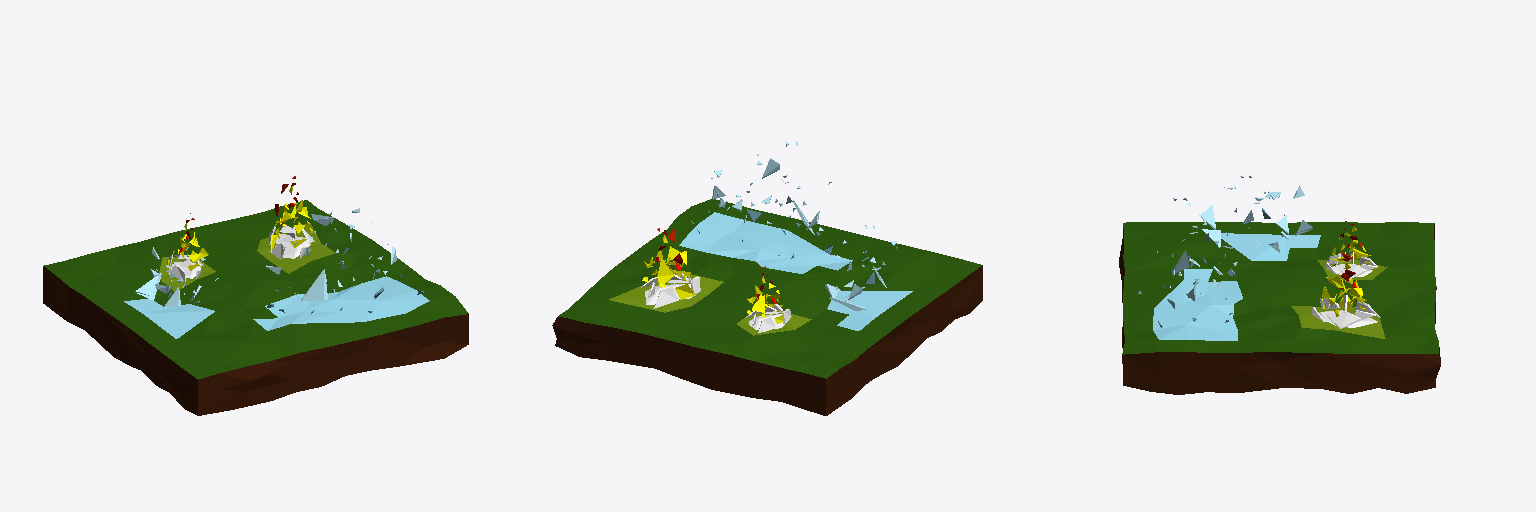
Rendered from particle_preview.obj.
3 views of the same model, side by side, from view 1: azimuth 30°, elevation 25°; view 2: azimuth 150°, elevation 25°; view 3: azimuth 270°, elevation 25° (orthographic).
Parts seen in each view (by area): view 1: Cube_Cube.006, particle_white.011_Plane.112, snow_group_Plane.069, particle_yellow.009_Plane.016, particle_red.079_Plane.137; view 2: Cube_Cube.006, particle_white.011_Plane.112, particle_yellow.009_Plane.016, snow_group_Plane.069, particle_red.079_Plane.137; view 3: Cube_Cube.006, particle_white.011_Plane.112, snow_group_Plane.069, particle_yellow.009_Plane.016, particle_red.079_Plane.137.
Part boxes in pixels (bbox=[...]): Cube_Cube.006: bbox=[43, 200, 468, 415]; particle_white.011_Plane.112: bbox=[269, 176, 314, 259]; snow_group_Plane.069: bbox=[266, 208, 423, 313]; particle_yellow.009_Plane.016: bbox=[166, 213, 208, 281]; particle_red.079_Plane.137: bbox=[135, 247, 218, 306]; Cube_Cube.006: bbox=[552, 199, 982, 415]; particle_white.011_Plane.112: bbox=[641, 228, 700, 308]; particle_yellow.009_Plane.016: bbox=[746, 266, 791, 332]; snow_group_Plane.069: bbox=[691, 141, 832, 258]; particle_red.079_Plane.137: bbox=[825, 225, 897, 310]; Cube_Cube.006: bbox=[1119, 222, 1440, 394]; particle_white.011_Plane.112: bbox=[1312, 252, 1380, 328]; snow_group_Plane.069: bbox=[1138, 198, 1237, 327]; particle_yellow.009_Plane.016: bbox=[1326, 221, 1377, 278]; particle_red.079_Plane.137: bbox=[1224, 176, 1312, 252].
Size of the model in its own units: 6.13 by 3.09 by 6.19.